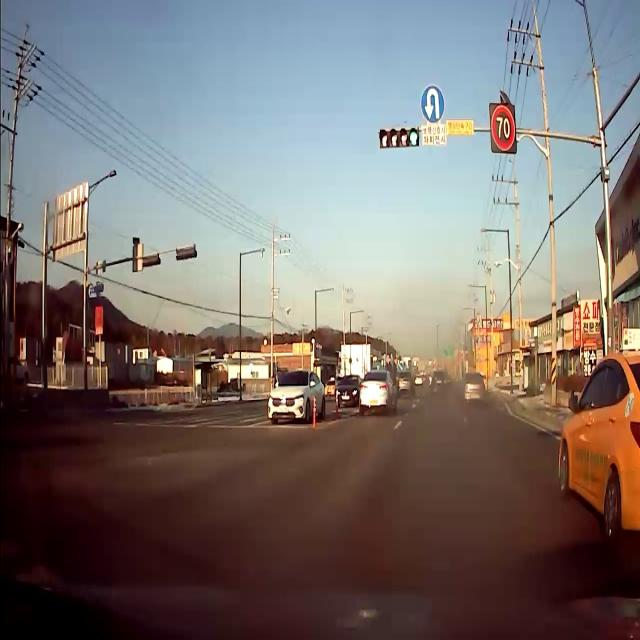Green Light: (408, 126, 420, 148)
